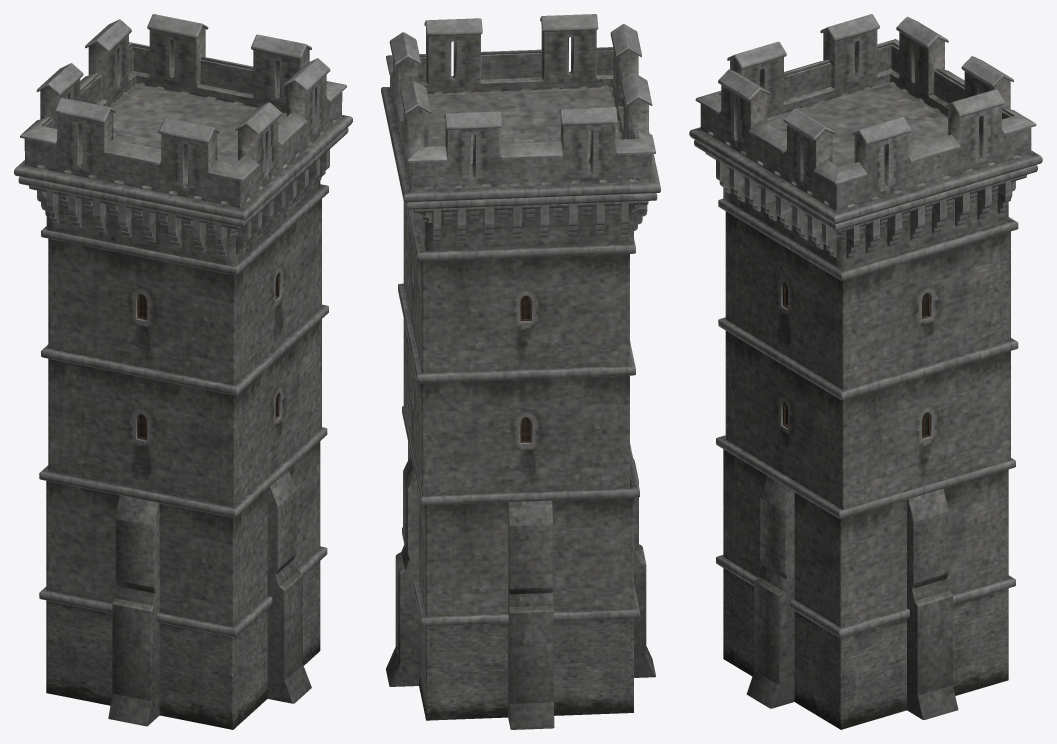
The model's file is Castle_Tower_Square_A2.fbx.
The picture shows the model from 3 angles, left to right: view 1: azimuth 30°, elevation 25°; view 2: azimuth 150°, elevation 25°; view 3: azimuth 270°, elevation 25°; orthographic projection.
Visible parts, largest first — view 1: Castle_Tower_Square_A.002; view 2: Castle_Tower_Square_A.002; view 3: Castle_Tower_Square_A.002.
Boxes of the visible parts, bbox=[...] form: Castle_Tower_Square_A.002: bbox=[14, 14, 352, 729]; Castle_Tower_Square_A.002: bbox=[381, 14, 660, 729]; Castle_Tower_Square_A.002: bbox=[689, 14, 1042, 729].
Size of the model in its own units: 862 by 1610 by 862.
